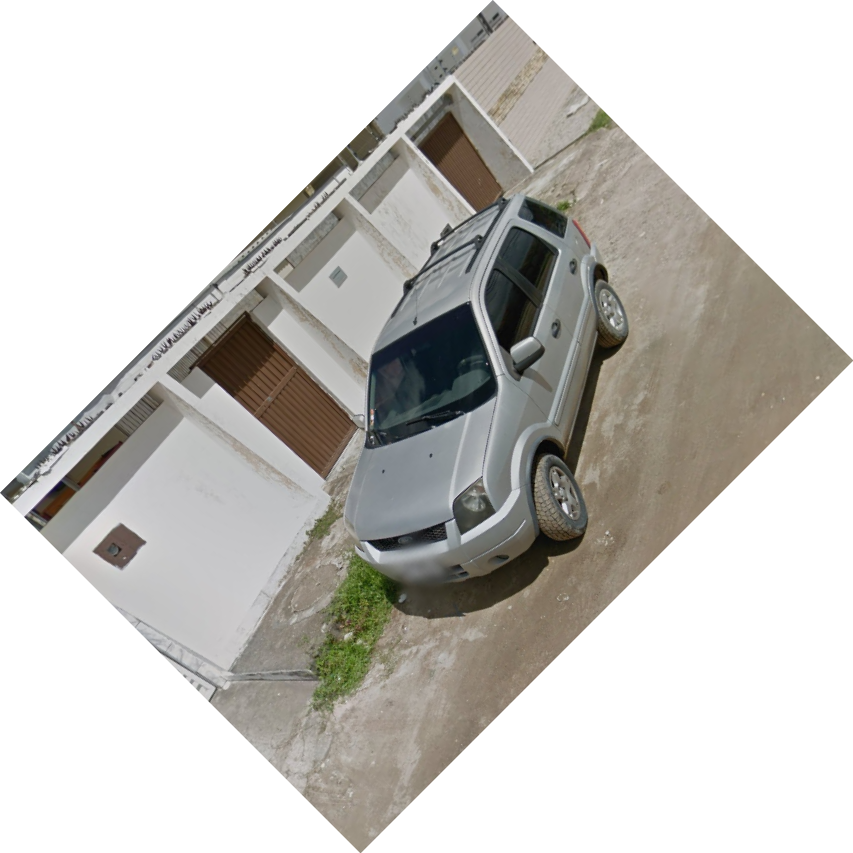car: (339, 188, 632, 584)
